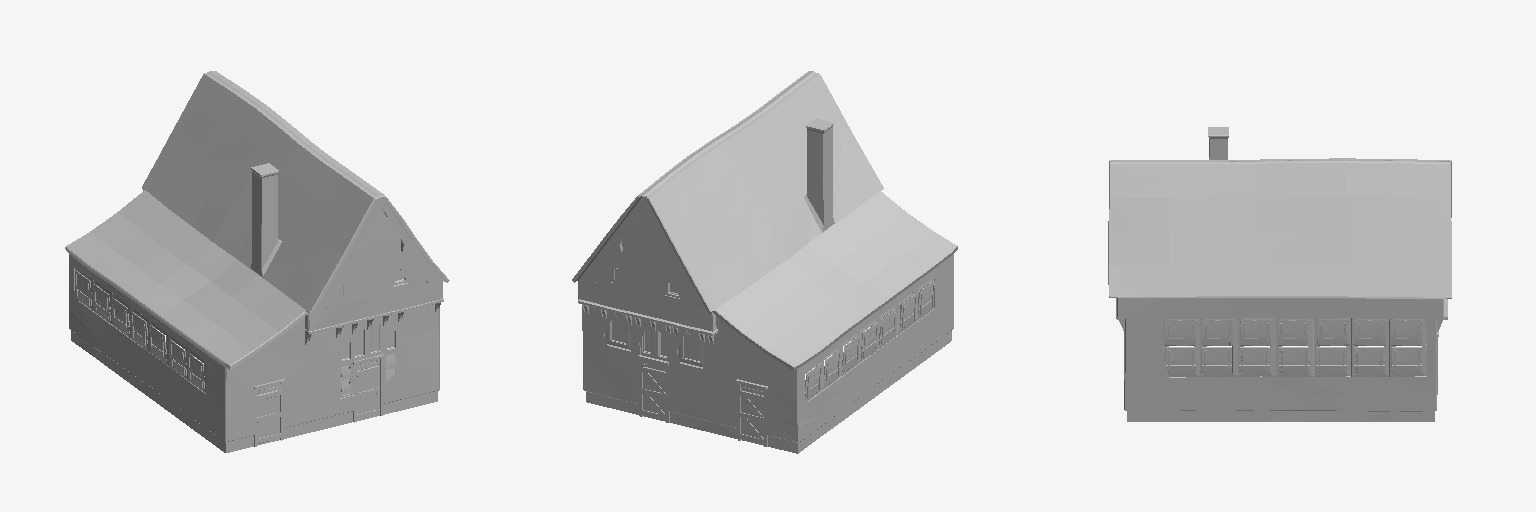
The model's file is destroyed_house.obj.
3 views of the same model, side by side, from view 1: azimuth 30°, elevation 25°; view 2: azimuth 150°, elevation 25°; view 3: azimuth 270°, elevation 25° (orthographic).
Parts seen in each view (by area): view 1: Medieval_House_Roof, Medieval_House_Base, Medieval_House_Misc, Medieval_House_Frames; view 2: Medieval_House_Roof, Medieval_House_Base, Medieval_House_Misc, Medieval_House_Frames; view 3: Medieval_House_Roof, Medieval_House_Base, Medieval_House_Misc, Medieval_House_Frames.
Part boxes in pixels (left/top/right/bottom): Medieval_House_Roof: left=66, top=71, right=443, bottom=365; Medieval_House_Base: left=65, top=188, right=449, bottom=452; Medieval_House_Misc: left=75, top=269, right=404, bottom=443; Medieval_House_Frames: left=75, top=197, right=442, bottom=446; Medieval_House_Roof: left=578, top=71, right=956, bottom=365; Medieval_House_Base: left=572, top=190, right=957, bottom=453; Medieval_House_Misc: left=610, top=268, right=934, bottom=444; Medieval_House_Frames: left=579, top=197, right=933, bottom=446; Medieval_House_Roof: left=1109, top=127, right=1450, bottom=331; Medieval_House_Base: left=1108, top=161, right=1451, bottom=421; Medieval_House_Misc: left=1165, top=320, right=1421, bottom=373; Medieval_House_Frames: left=1163, top=318, right=1438, bottom=394.
Size of the model in its own units: 14.28 by 14.17 by 19.15.